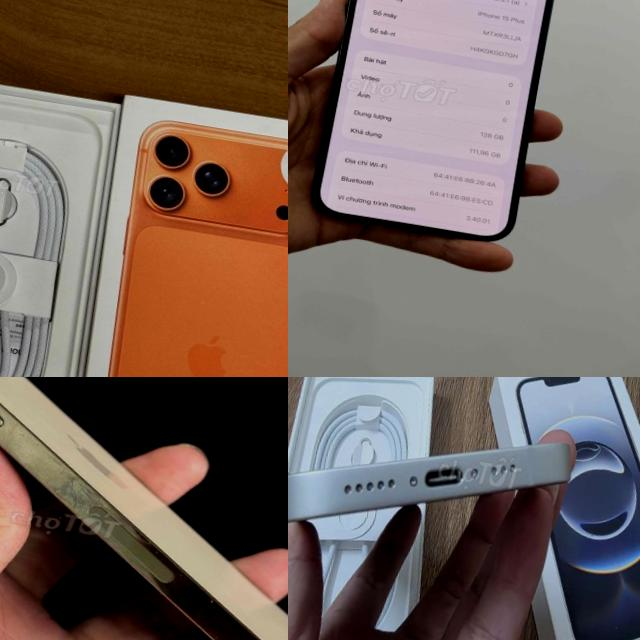gen_14: (0, 377, 288, 640)
gen_15: (289, 0, 576, 259)
gen_16: (288, 443, 571, 522)
scratch: (34, 463, 140, 540), (206, 591, 218, 611)
